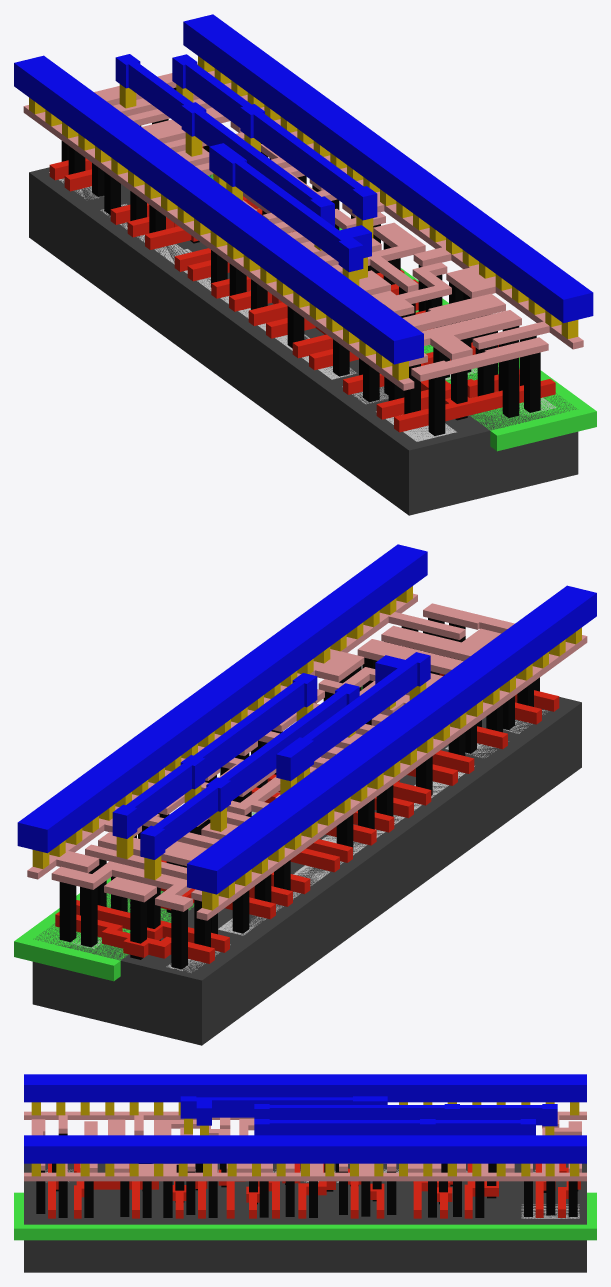
The model's file is sky130_fd_sc_hd__dfrbp_1.obj.
The picture shows the model from 3 angles, top to bottom: view 1: azimuth 30°, elevation 25°; view 2: azimuth 150°, elevation 25°; view 3: azimuth 270°, elevation 25°; orthographic projection. The views are drawn at different scales.
Parts seen in each view (by area): view 1: metal1, subs, li, licon, poly, mcon, nwell, diff; view 2: metal1, subs, li, licon, poly, mcon, nwell, diff; view 3: metal1, subs, li, nwell, licon, poly, mcon, tap.
Part boxes in pixels (x1=…): metal1: x1=14, y1=14, x2=593, y2=364; subs: x1=29, y1=167, x2=578, y2=515; li: x1=23, y1=63, x2=583, y2=390; licon: x1=61, y1=87, x2=540, y2=435; poly: x1=49, y1=146, x2=555, y2=432; mcon: x1=29, y1=56, x2=578, y2=380; nwell: x1=208, y1=174, x2=596, y2=451; diff: x1=49, y1=172, x2=456, y2=441; metal1: x1=17, y1=544, x2=596, y2=894; subs: x1=32, y1=697, x2=581, y2=1045; li: x1=27, y1=593, x2=587, y2=920; licon: x1=59, y1=618, x2=539, y2=969; poly: x1=55, y1=673, x2=559, y2=963; mcon: x1=32, y1=586, x2=581, y2=910; nwell: x1=14, y1=687, x2=362, y2=981; diff: x1=166, y1=710, x2=547, y2=972; metal1: x1=24, y1=1074, x2=586, y2=1163; subs: x1=24, y1=1163, x2=586, y2=1272; li: x1=24, y1=1111, x2=586, y2=1181; nwell: x1=14, y1=1192, x2=596, y2=1240; licon: x1=36, y1=1133, x2=578, y2=1217; poly: x1=48, y1=1163, x2=580, y2=1218; mcon: x1=31, y1=1102, x2=579, y2=1176; tap: x1=521, y1=1204, x2=579, y2=1218.
Bounding box in the file's own units: 3.2 × 2.74 × 10.96.
